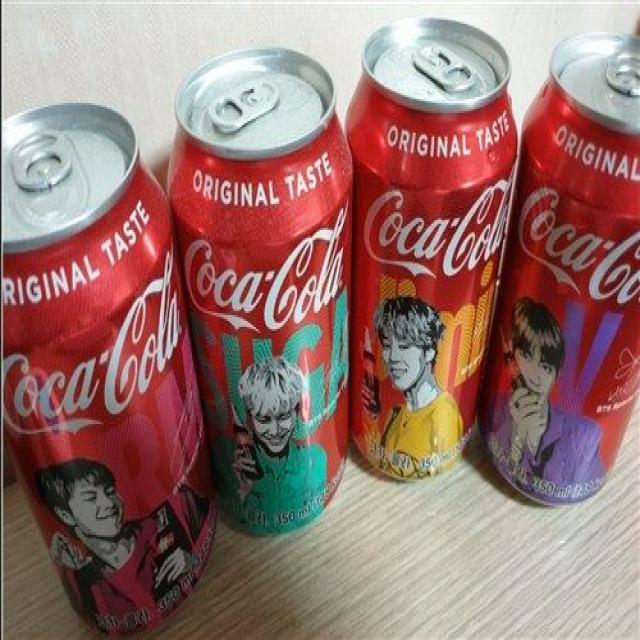coca-cola: (1, 146, 216, 640), (168, 59, 352, 536), (344, 28, 520, 484), (476, 49, 640, 508)
